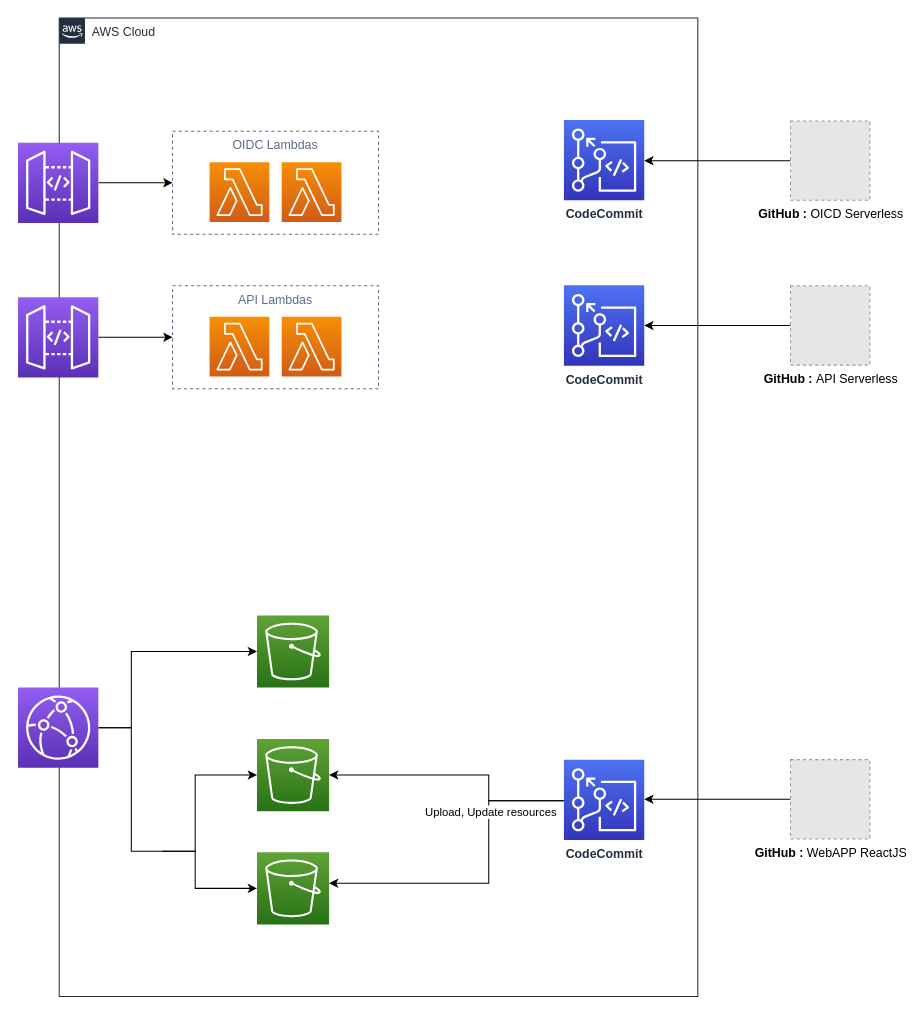
Some shapes in this 924 by 1015 pixel diagram are drawn without their labels. Grey dashed boxes stand in for pictures. Here are the shapes that lost their labels. From the top down, the box of each, then its label:
(256, 614, 329, 688): S3 : AWS Polly files
(256, 738, 329, 811): S3 : React WebAPP
(256, 851, 329, 924): S3 : Static assets (img, etc.)
